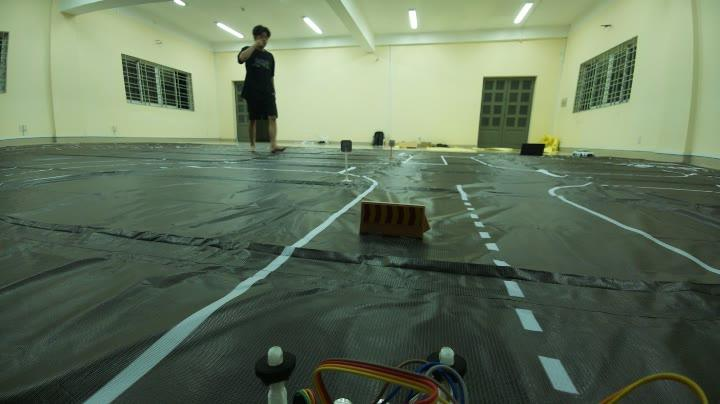roadblock: (354, 194, 437, 248)
